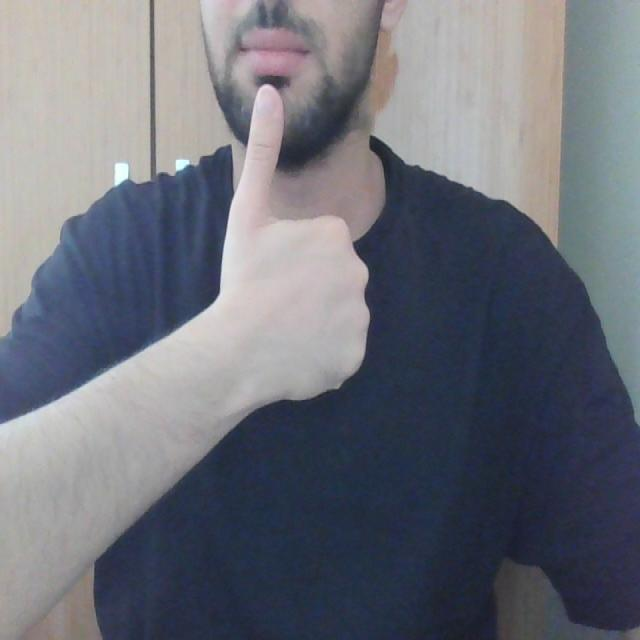Baba: (205, 21, 317, 196)
